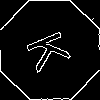K: (25, 25, 80, 74)
